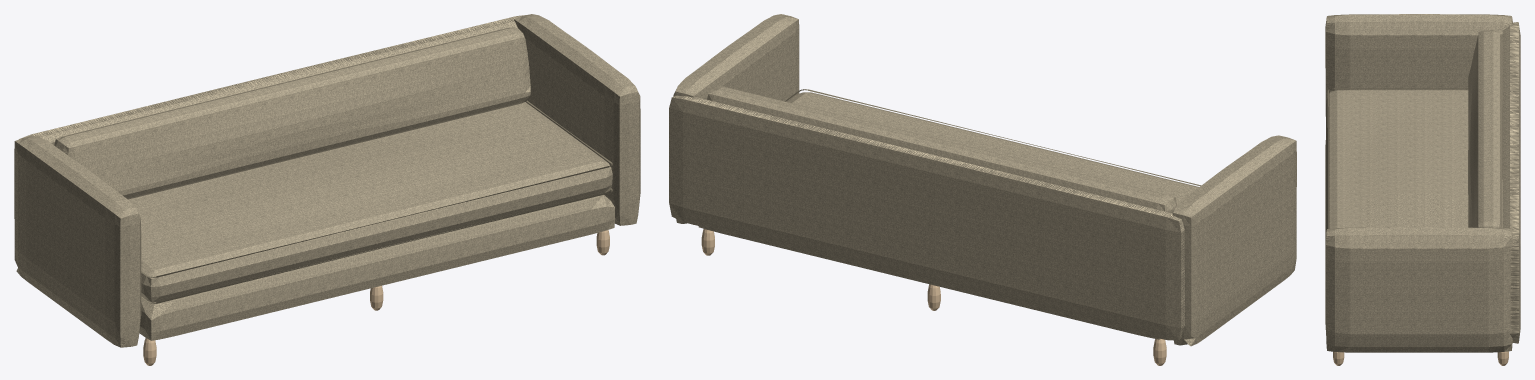
File: CAL-SOF-4-seat.glb
The picture shows the model from 3 angles, left to right: view 1: azimuth 30°, elevation 25°; view 2: azimuth 150°, elevation 25°; view 3: azimuth 270°, elevation 25°; orthographic projection. The views are drawn at different scales.
Parts seen in each view (by area): view 1: seat:fabric:eyJwcmVzZXQiOiJib3VjbGUiLCJ3YXJwIjoib2F0Iiwid2Vm, inside-back:fabric:eyJwcmVzZXQiOiJib3VjbGUiLCJ3YXJwIjoib2F0I, arm-pad-l:fabric:eyJwcmVzZXQiOiJib3VjbGUiLCJ3YXJwIjoib2F0Iiw, deck:fabric:eyJwcmVzZXQiOiJib3VjbGUiLCJ3YXJwIjoib2F0Iiwid2Vm, arm-pad-r:fabric:eyJwcmVzZXQiOiJib3VjbGUiLCJ3YXJwIjoib2F0Iiw, back-pad:fabric:eyJwcmVzZXQiOiJib3VjbGUiLCJ3YXJwIjoib2F0Iiwi, seat:piping:pbr; view 2: back-pad:fabric:eyJwcmVzZXQiOiJib3VjbGUiLCJ3YXJwIjoib2F0Iiwi, arm-pad-l:fabric:eyJwcmVzZXQiOiJib3VjbGUiLCJ3YXJwIjoib2F0Iiw, inside-back:fabric:eyJwcmVzZXQiOiJib3VjbGUiLCJ3YXJwIjoib2F0I, arm-pad-r:fabric:eyJwcmVzZXQiOiJib3VjbGUiLCJ3YXJwIjoib2F0Iiw, seat:fabric:eyJwcmVzZXQiOiJib3VjbGUiLCJ3YXJwIjoib2F0Iiwid2Vm, deck:fabric:eyJwcmVzZXQiOiJib3VjbGUiLCJ3YXJwIjoib2F0Iiwid2Vm, seat:piping:pbr; view 3: arm-pad-r:fabric:eyJwcmVzZXQiOiJib3VjbGUiLCJ3YXJwIjoib2F0Iiw, seat:fabric:eyJwcmVzZXQiOiJib3VjbGUiLCJ3YXJwIjoib2F0Iiwid2Vm, arm-pad-l:fabric:eyJwcmVzZXQiOiJib3VjbGUiLCJ3YXJwIjoib2F0Iiw, inside-back:fabric:eyJwcmVzZXQiOiJib3VjbGUiLCJ3YXJwIjoib2F0I, back-pad:fabric:eyJwcmVzZXQiOiJib3VjbGUiLCJ3YXJwIjoib2F0Iiwi, seat:piping:pbr, deck:fabric:eyJwcmVzZXQiOiJib3VjbGUiLCJ3YXJwIjoib2F0Iiwid2Vm.
Boxes of the visible parts, box(x1,y1,x2,y2) form: seat:fabric:eyJwcmVzZXQiOiJib3VjbGUiLCJ3YXJwIjoib2F0Iiwid2Vm: box(128, 102, 612, 302); inside-back:fabric:eyJwcmVzZXQiOiJib3VjbGUiLCJ3YXJwIjoib2F0I: box(54, 27, 530, 199); arm-pad-l:fabric:eyJwcmVzZXQiOiJib3VjbGUiLCJ3YXJwIjoib2F0Iiw: box(14, 136, 141, 347); deck:fabric:eyJwcmVzZXQiOiJib3VjbGUiLCJ3YXJwIjoib2F0Iiwid2Vm: box(139, 195, 615, 340); arm-pad-r:fabric:eyJwcmVzZXQiOiJib3VjbGUiLCJ3YXJwIjoib2F0Iiw: box(514, 14, 640, 225); back-pad:fabric:eyJwcmVzZXQiOiJib3VjbGUiLCJ3YXJwIjoib2F0Iiwi: box(19, 15, 526, 144); seat:piping:pbr: box(141, 100, 612, 303); back-pad:fabric:eyJwcmVzZXQiOiJib3VjbGUiLCJ3YXJwIjoib2F0Iiwi: box(669, 95, 1184, 340); arm-pad-l:fabric:eyJwcmVzZXQiOiJib3VjbGUiLCJ3YXJwIjoib2F0Iiw: box(1172, 135, 1296, 346); inside-back:fabric:eyJwcmVzZXQiOiJib3VjbGUiLCJ3YXJwIjoib2F0I: box(707, 86, 1176, 213); arm-pad-r:fabric:eyJwcmVzZXQiOiJib3VjbGUiLCJ3YXJwIjoib2F0Iiw: box(673, 14, 799, 224); seat:fabric:eyJwcmVzZXQiOiJib3VjbGUiLCJ3YXJwIjoib2F0Iiwid2Vm: box(788, 92, 1198, 204); deck:fabric:eyJwcmVzZXQiOiJib3VjbGUiLCJ3YXJwIjoib2F0Iiwid2Vm: box(698, 226, 1160, 339); seat:piping:pbr: box(785, 89, 1201, 186); arm-pad-r:fabric:eyJwcmVzZXQiOiJib3VjbGUiLCJ3YXJwIjoib2F0Iiw: box(1325, 227, 1512, 352); seat:fabric:eyJwcmVzZXQiOiJib3VjbGUiLCJ3YXJwIjoib2F0Iiwid2Vm: box(1326, 90, 1468, 233); arm-pad-l:fabric:eyJwcmVzZXQiOiJib3VjbGUiLCJ3YXJwIjoib2F0Iiw: box(1325, 14, 1512, 116); inside-back:fabric:eyJwcmVzZXQiOiJib3VjbGUiLCJ3YXJwIjoib2F0I: box(1468, 30, 1502, 227); back-pad:fabric:eyJwcmVzZXQiOiJib3VjbGUiLCJ3YXJwIjoib2F0Iiwi: box(1502, 22, 1520, 343); seat:piping:pbr: box(1327, 88, 1468, 228); deck:fabric:eyJwcmVzZXQiOiJib3VjbGUiLCJ3YXJwIjoib2F0Iiwid2Vm: box(1325, 140, 1502, 324).
Bounding box in the file's own units: 2.6 × 0.78 × 0.95.
Materials: 13 (6 with a texture image).
